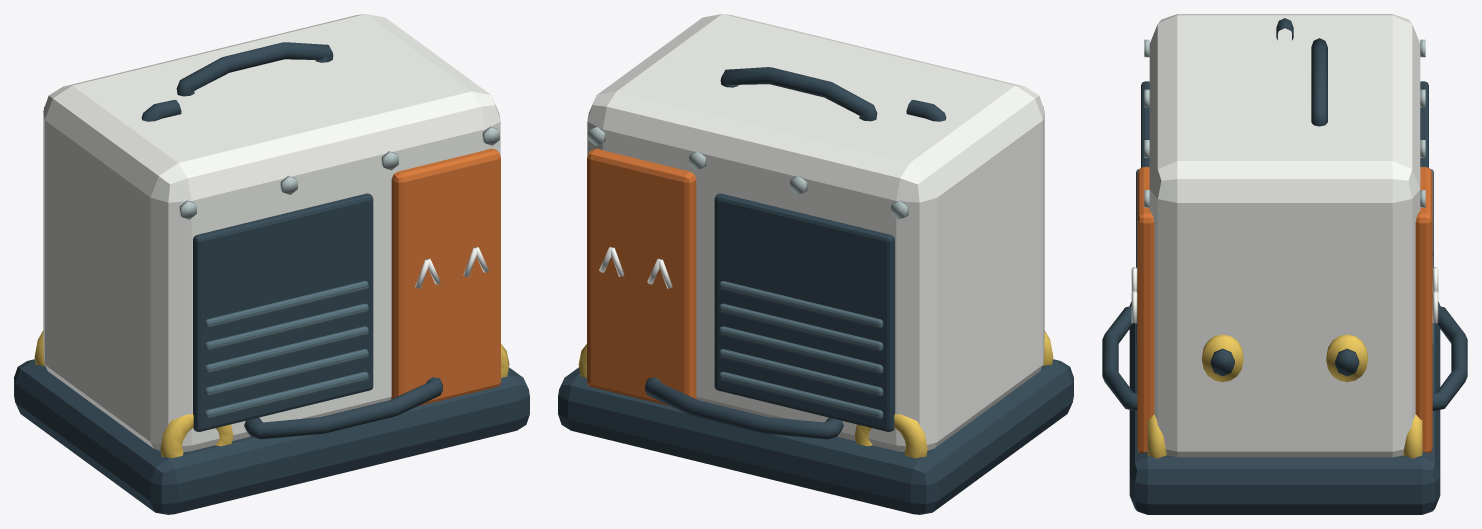
Rendered from generator.glb.
3 views of the same model, side by side, from view 1: azimuth 30°, elevation 25°; view 2: azimuth 150°, elevation 25°; view 3: azimuth 270°, elevation 25° (orthographic).
Visible parts, largest first — view 1: tyaga-generator-small-surface; view 2: tyaga-generator-small-surface; view 3: tyaga-generator-small-surface.
Boxes of the visible parts, left/top/right/bottom form: tyaga-generator-small-surface: left=14, top=14, right=529, bottom=514; tyaga-generator-small-surface: left=558, top=14, right=1073, bottom=514; tyaga-generator-small-surface: left=1102, top=14, right=1467, bottom=514.
Size of the model in its own units: 1.1 by 1 by 0.9.
